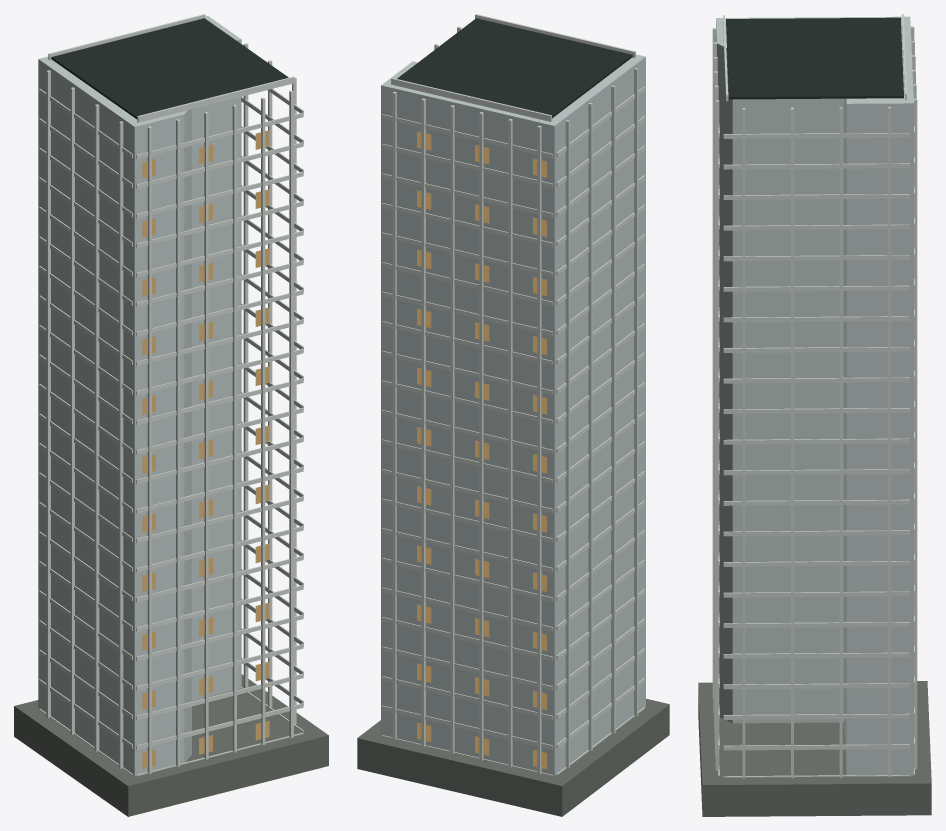
File: lite3-2.glb
The picture shows the model from 3 angles, left to right: view 1: azimuth 30°, elevation 25°; view 2: azimuth 150°, elevation 25°; view 3: azimuth 270°, elevation 25°; orthographic projection. The views are drawn at different scales.
Visible parts, largest first — view 1: envelope, fins, floor_bands, podium, roof_deck, night_windows, parapet; view 2: envelope, fins, floor_bands, podium, roof_deck, night_windows, parapet; view 3: envelope, floor_bands, podium, fins, roof_deck, parapet.
Part boxes in pixels (x1,y1,x2,y2): envelope: [38, 16, 241, 775]; fins: [46, 43, 296, 773]; floor_bands: [39, 89, 303, 775]; podium: [14, 674, 328, 816]; roof_deck: [51, 18, 288, 119]; night_windows: [142, 130, 269, 768]; parapet: [48, 14, 294, 122]; envelope: [381, 54, 645, 775]; fins: [392, 26, 638, 774]; floor_bands: [382, 86, 644, 776]; podium: [357, 698, 669, 816]; roof_deck: [397, 18, 632, 118]; night_windows: [417, 131, 546, 769]; parapet: [391, 14, 635, 121]; envelope: [716, 16, 913, 775]; floor_bands: [718, 124, 914, 777]; podium: [698, 681, 931, 816]; fins: [712, 26, 917, 778]; roof_deck: [726, 17, 903, 99]; parapet: [723, 14, 906, 101].
Bounding box in the file's own units: 47.32 × 150 × 44.84.
